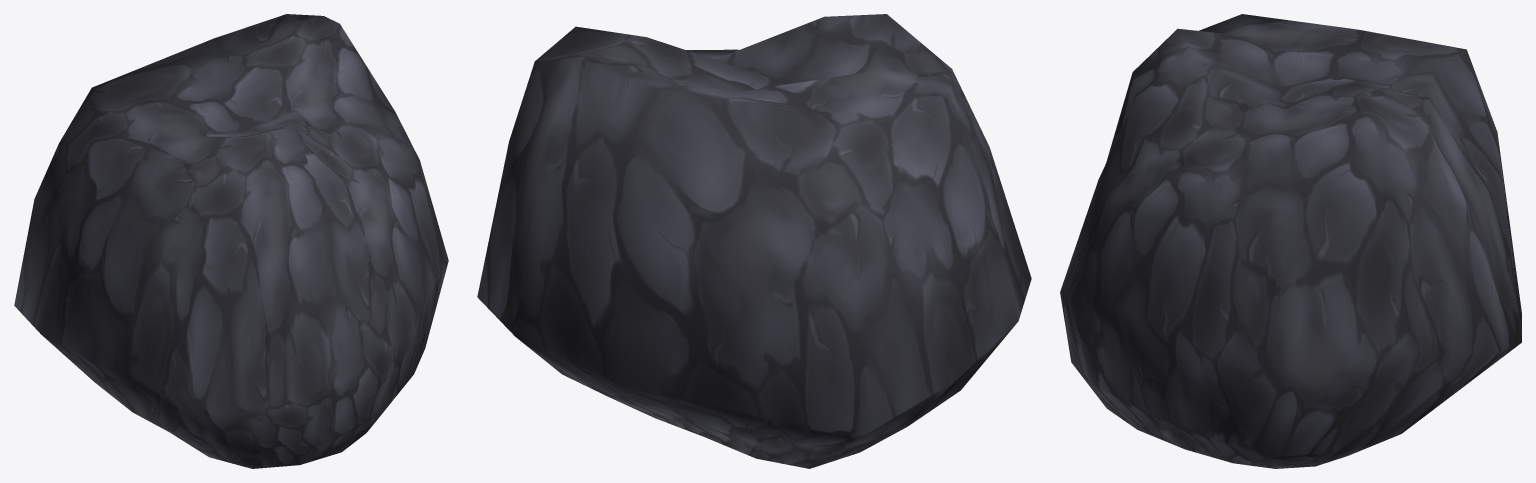
The model's file is Rock01.fbx.
3 renders of one model, left to right at view 1: azimuth 30°, elevation 25°; view 2: azimuth 150°, elevation 25°; view 3: azimuth 270°, elevation 25°, orthographic. The views are drawn at different scales.
Parts seen in each view (by area): view 1: Rock; view 2: Rock; view 3: Rock.
Boxes of the visible parts, left/top/right/bottom form: Rock: left=14, top=14, right=448, bottom=468; Rock: left=477, top=14, right=1031, bottom=468; Rock: left=1060, top=14, right=1521, bottom=468.
Bounding box in the file's own units: 115 × 93.98 × 110.
